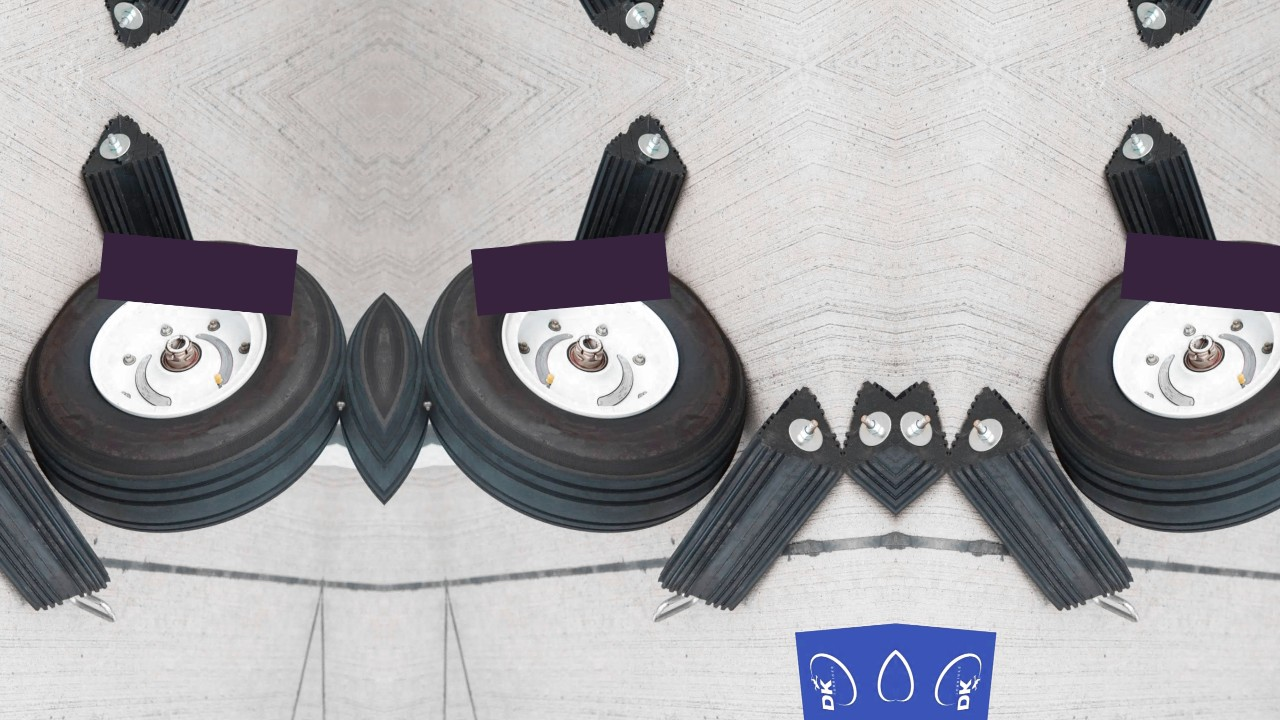chock: (638, 382, 858, 619), (934, 382, 1154, 619), (66, 110, 213, 329), (555, 110, 702, 329), (1090, 110, 1237, 329), (0, 382, 130, 619)
wheel: (5, 222, 355, 550), (413, 222, 763, 550), (1029, 222, 1280, 550)
